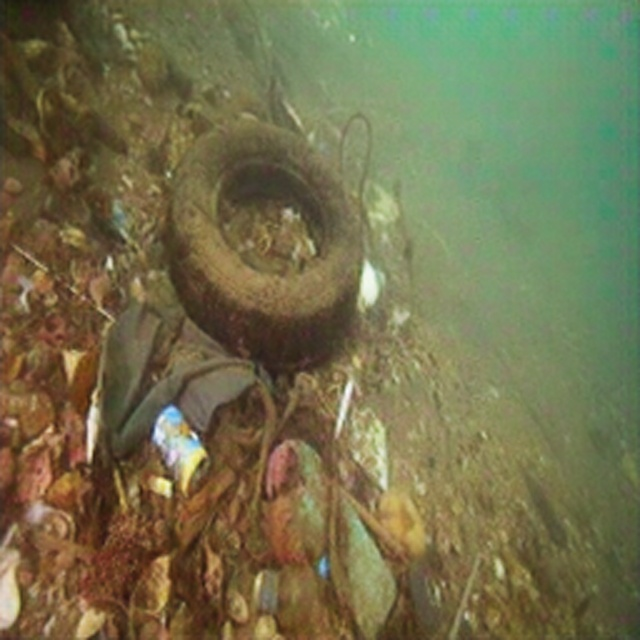mine: (165, 118, 365, 362)
